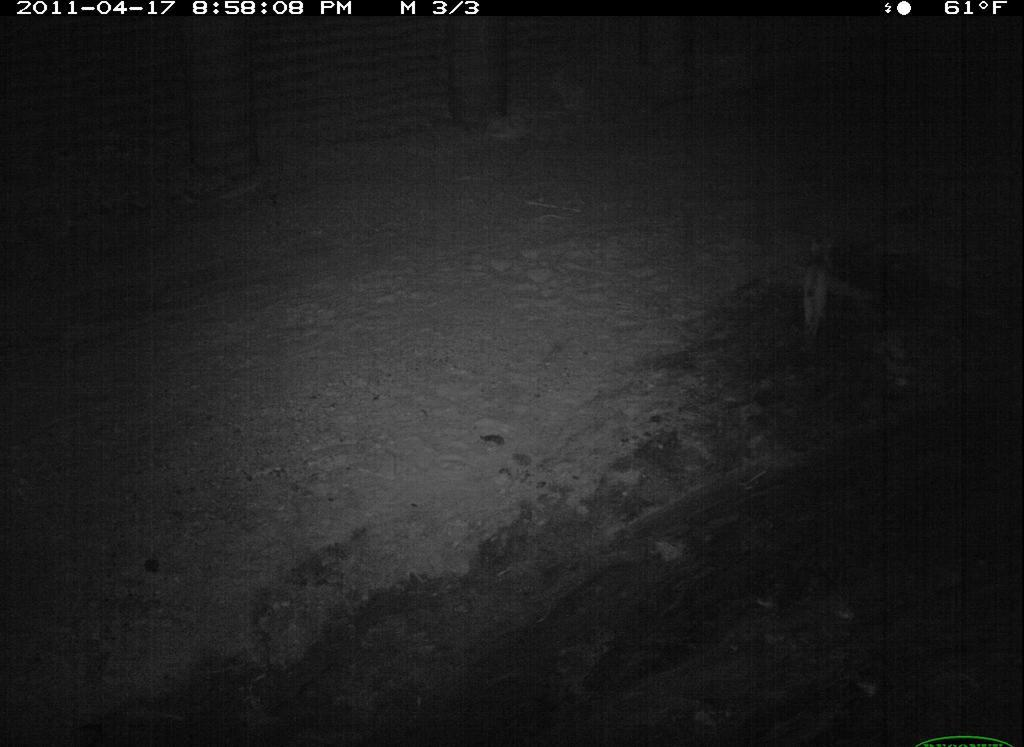bobcat: (794, 231, 858, 341)
